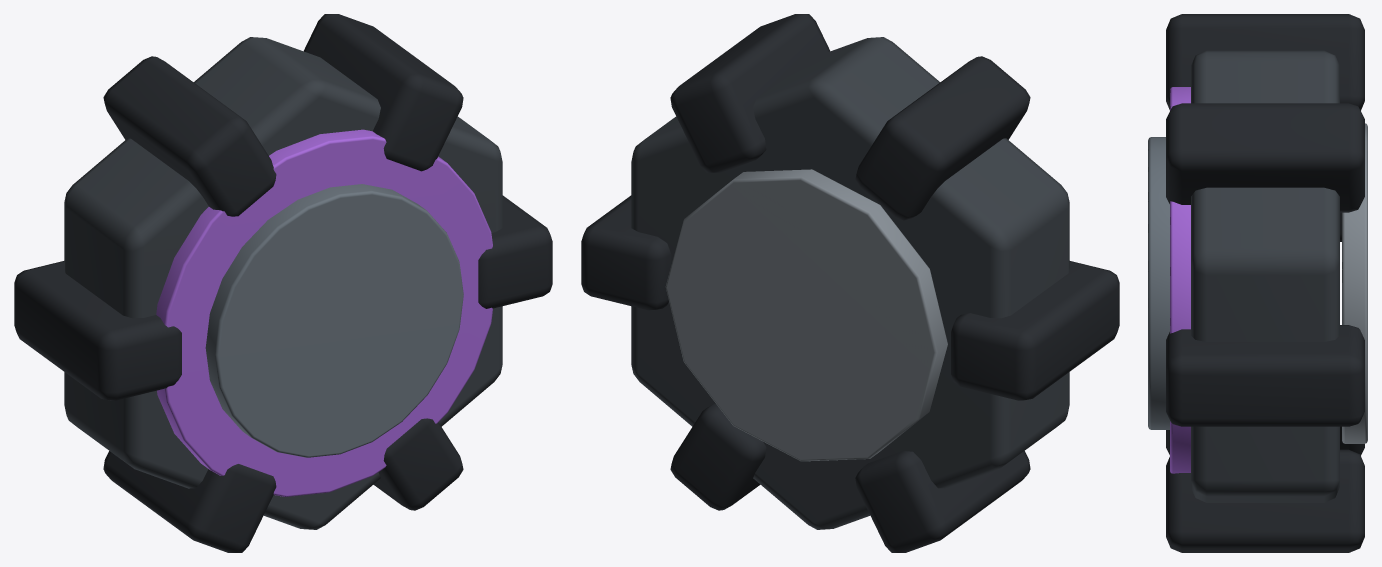
The picture shows the model from 3 angles, left to right: view 1: azimuth 30°, elevation 25°; view 2: azimuth 150°, elevation 25°; view 3: azimuth 270°, elevation 25°; orthographic projection. The views are drawn at different scales.
Parts seen in each view (by area): view 1: T04__Central_disc, T04__Hexagonal_body, T04__Violet_ring, T04__Robust_lobe.002, T04__Robust_lobe.003, T04__Robust_lobe.001, T04__Robust_lobe.004, T04__Robust_lobe, T04__Robust_lobe.005; view 2: T04__Hexagonal_body, T04__Sealed_rear, T04__Robust_lobe.002, T04__Robust_lobe.003, T04__Robust_lobe.001, T04__Robust_lobe.004, T04__Robust_lobe, T04__Robust_lobe.005; view 3: T04__Hexagonal_body, T04__Robust_lobe.001, T04__Robust_lobe, T04__Robust_lobe.005, T04__Robust_lobe.002, T04__Central_disc, T04__Sealed_rear, T04__Violet_ring, T04__Robust_lobe.004.
Boxes of the visible parts, bbox=[...] form: T04__Central_disc: bbox=[205, 184, 463, 457]; T04__Hexagonal_body: bbox=[64, 37, 502, 529]; T04__Violet_ring: bbox=[156, 129, 492, 496]; T04__Robust_lobe.002: bbox=[103, 56, 276, 216]; T04__Robust_lobe.003: bbox=[14, 261, 181, 400]; T04__Robust_lobe.001: bbox=[304, 14, 463, 171]; T04__Robust_lobe.004: bbox=[103, 451, 276, 552]; T04__Robust_lobe: bbox=[478, 195, 552, 308]; T04__Robust_lobe.005: bbox=[373, 418, 463, 510]; T04__Hexagonal_body: bbox=[631, 37, 1069, 529]; T04__Sealed_rear: bbox=[665, 169, 947, 461]; T04__Robust_lobe.002: bbox=[855, 56, 1030, 220]; T04__Robust_lobe.003: bbox=[951, 261, 1119, 400]; T04__Robust_lobe.001: bbox=[670, 14, 829, 172]; T04__Robust_lobe.004: bbox=[855, 451, 1030, 552]; T04__Robust_lobe: bbox=[581, 195, 671, 310]; T04__Robust_lobe.005: bbox=[670, 403, 766, 510]; T04__Hexagonal_body: bbox=[1191, 50, 1339, 502]; T04__Robust_lobe.001: bbox=[1166, 103, 1364, 212]; T04__Robust_lobe: bbox=[1166, 325, 1364, 426]; T04__Robust_lobe.005: bbox=[1166, 449, 1364, 552]; T04__Robust_lobe.002: bbox=[1166, 14, 1364, 110]; T04__Central_disc: bbox=[1148, 137, 1169, 429]; T04__Sealed_rear: bbox=[1342, 123, 1367, 443]; T04__Violet_ring: bbox=[1170, 87, 1190, 473]; T04__Robust_lobe.004: bbox=[1166, 426, 1364, 455].
Size of the model in its own units: 0.27 by 0.2558 by 0.1105.
